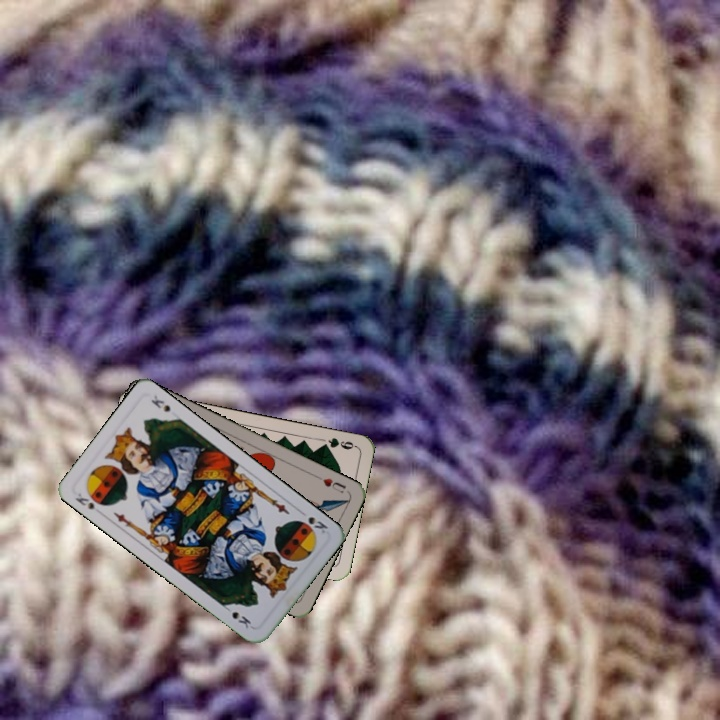G9: (317, 433, 359, 452)
HU: (312, 471, 349, 496)
SK: (295, 506, 330, 536), (71, 489, 99, 513)
